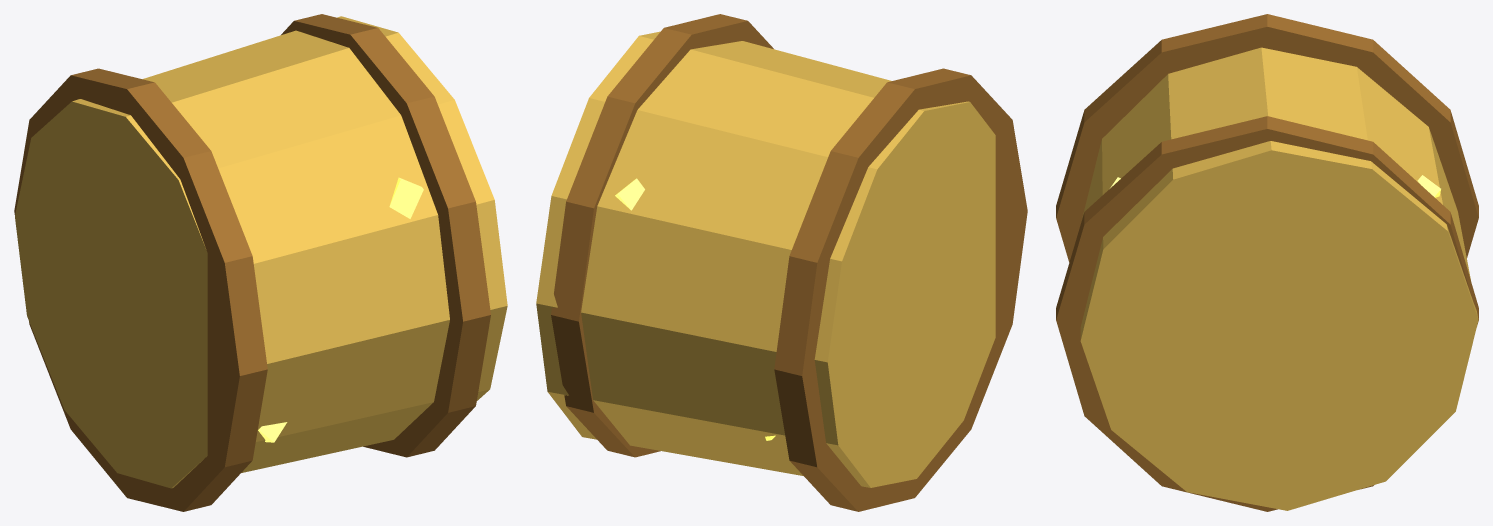
The model's file is vorlaug_bracer_r.glb.
The picture shows the model from 3 angles, left to right: view 1: azimuth 30°, elevation 25°; view 2: azimuth 150°, elevation 25°; view 3: azimuth 270°, elevation 25°; orthographic projection. The views are drawn at different scales.
Parts seen in each view (by area): view 1: vorlaug_bracer_r; view 2: vorlaug_bracer_r; view 3: vorlaug_bracer_r.
Boxes of the visible parts, left/top/right/bottom form: vorlaug_bracer_r: left=14, top=14, right=507, bottom=511; vorlaug_bracer_r: left=536, top=14, right=1027, bottom=511; vorlaug_bracer_r: left=1056, top=14, right=1478, bottom=511.
Bounding box in the file's own units: 0.2628 × 0.35 × 0.35.
